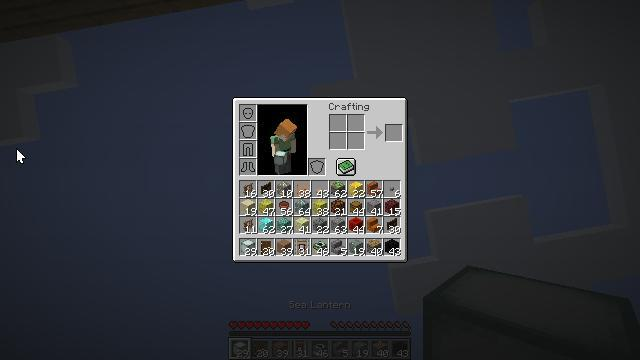cursor: (16, 148, 26, 164)
